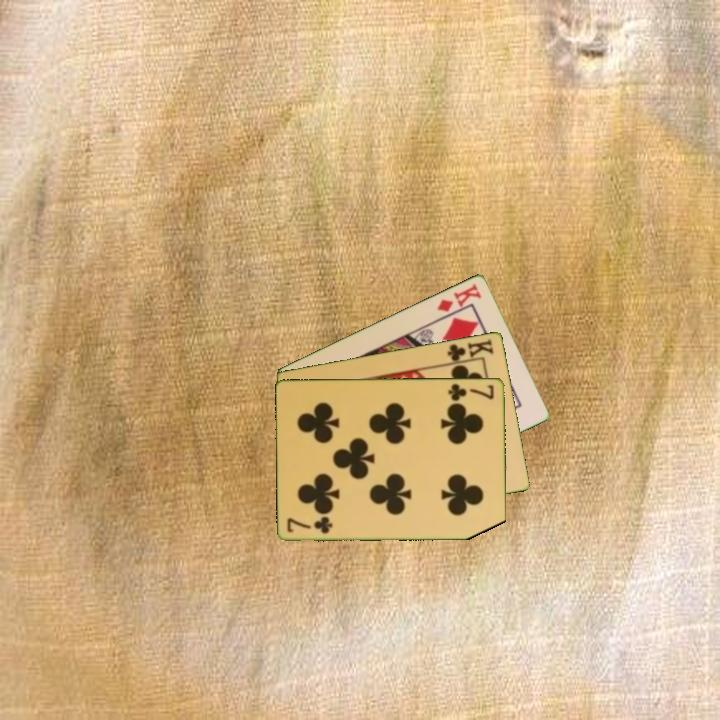7c: (445, 380, 497, 404), (284, 514, 335, 536)
Kc: (443, 335, 497, 367)
Kd: (433, 279, 485, 315)
